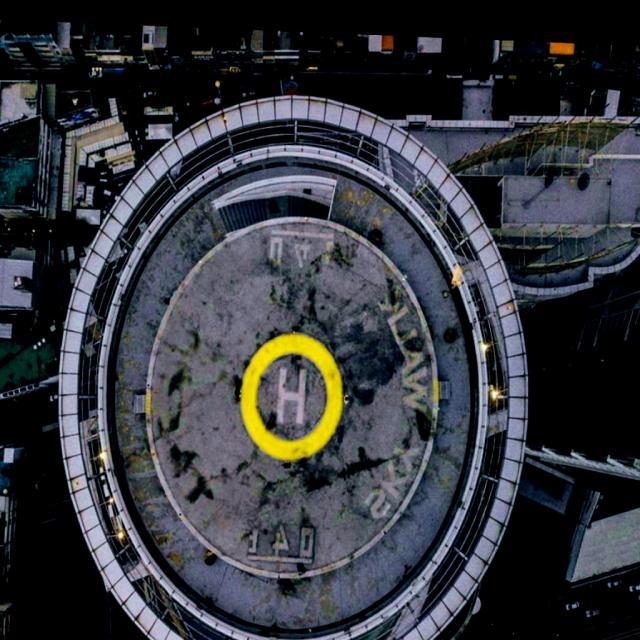helipad: (236, 327, 348, 464)
